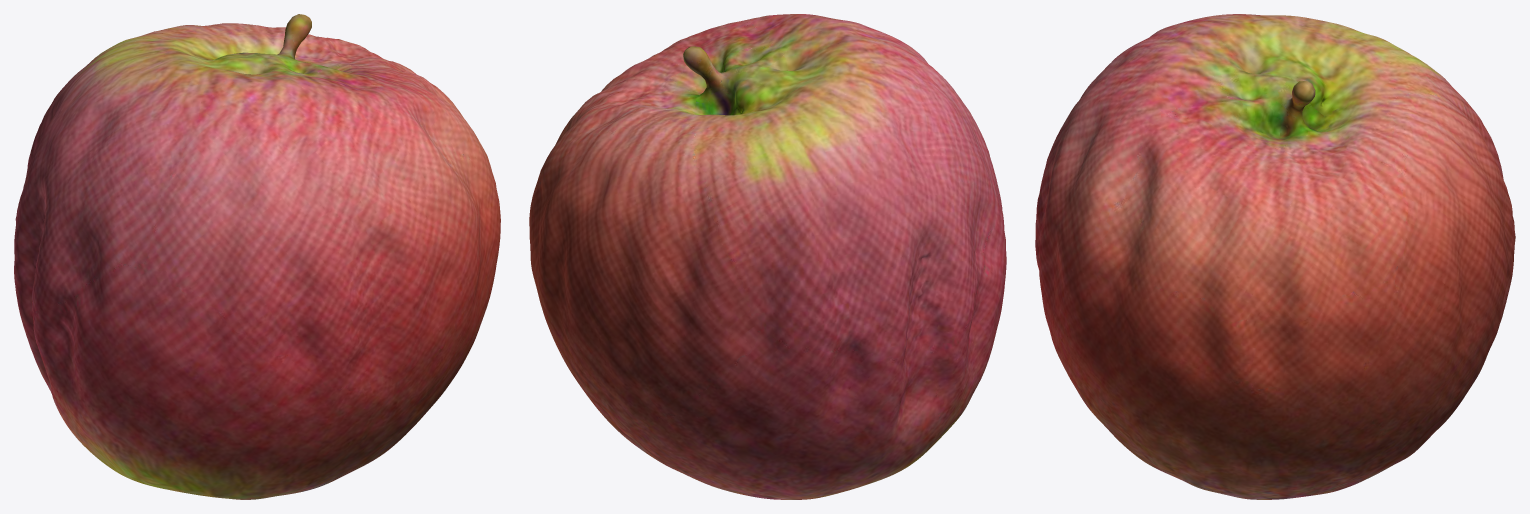
Rendered from card_1.glb.
3 renders of one model, left to right at view 1: azimuth 30°, elevation 25°; view 2: azimuth 150°, elevation 25°; view 3: azimuth 270°, elevation 25°, orthographic. The views are drawn at different scales.
Visible parts, largest first — view 1: Mesh1; view 2: Mesh1; view 3: Mesh1.
Boxes of the visible parts, left/top/right/bottom form: Mesh1: left=14, top=14, right=500, bottom=499; Mesh1: left=529, top=14, right=1006, bottom=499; Mesh1: left=1035, top=14, right=1515, bottom=499.
Size of the model in its own units: 1.2 by 1.16 by 1.19.
Materials: 1 (1 with a texture image).
